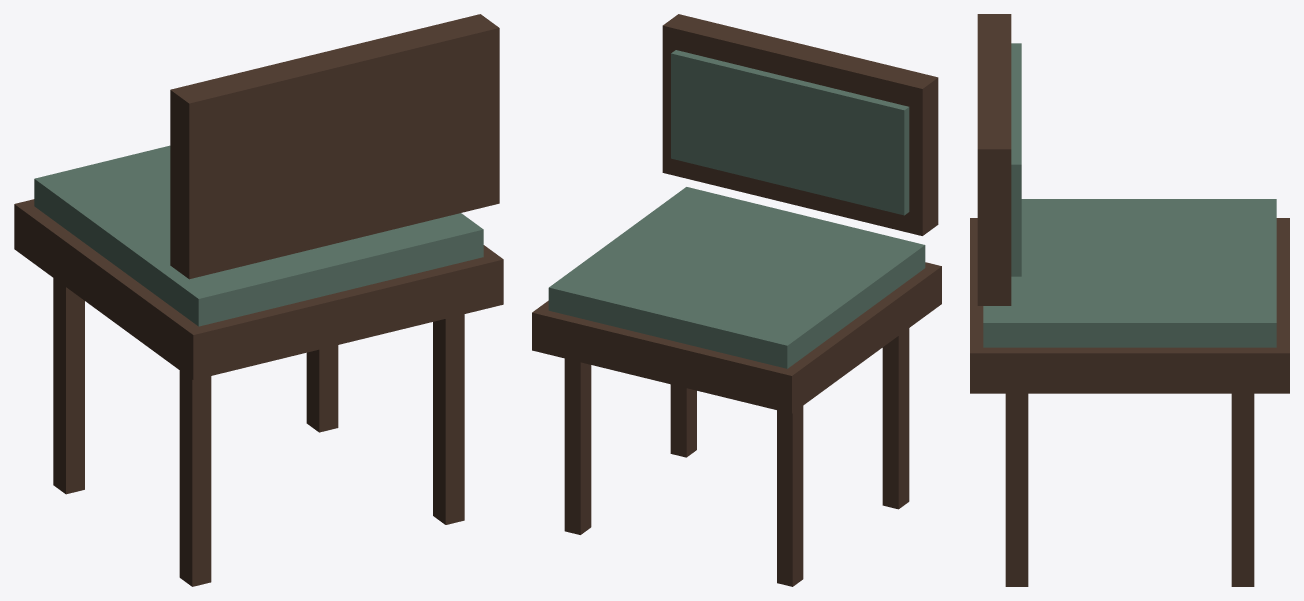
Rendered from LP_Security_DeskChair.fbx.
3 views of the same model, side by side, from view 1: azimuth 30°, elevation 25°; view 2: azimuth 150°, elevation 25°; view 3: azimuth 270°, elevation 25° (orthographic). The views are drawn at different scales.
Visible parts, largest first — view 1: Walnut, SageUpholstery; view 2: SageUpholstery, Walnut; view 3: SageUpholstery, Walnut.
Boxes of the visible parts, x1,y1,x2,y2 form: Walnut: (14,14,503,586); SageUpholstery: (34,145,483,326); SageUpholstery: (548,50,925,368); Walnut: (532,14,941,586); SageUpholstery: (983,43,1276,347); Walnut: (970,14,1289,586).
Bounding box in the file's own units: 65 × 100 × 65.
